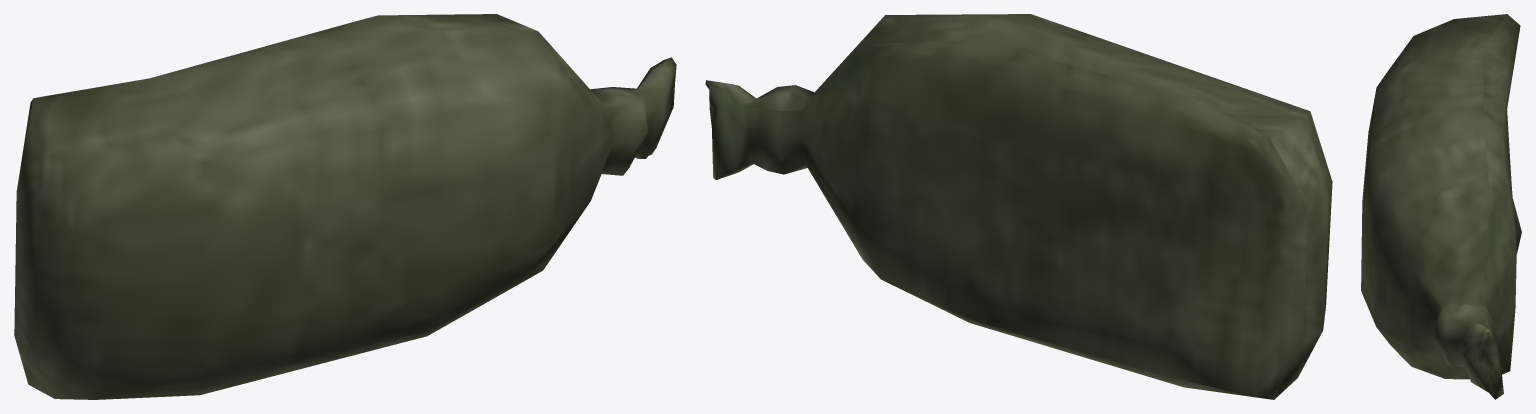
Rendered from military_sandbag_wet_single_flat.glb.
The picture shows the model from 3 angles, left to right: view 1: azimuth 30°, elevation 25°; view 2: azimuth 150°, elevation 25°; view 3: azimuth 270°, elevation 25°; orthographic projection. The views are drawn at different scales.
Size of the model in its own units: 29.8 by 13.92 by 8.14.
Materials: 1 (1 with a texture image).
